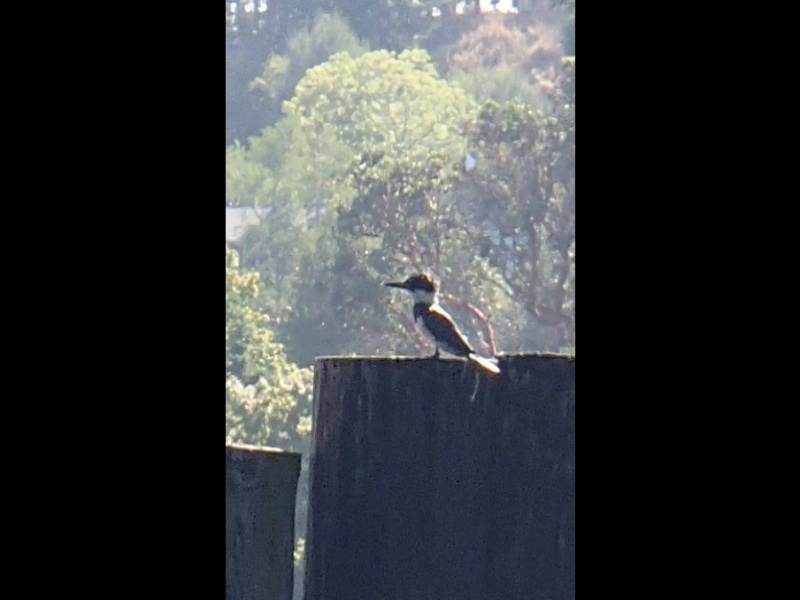kingfisher: (383, 270, 503, 375)
